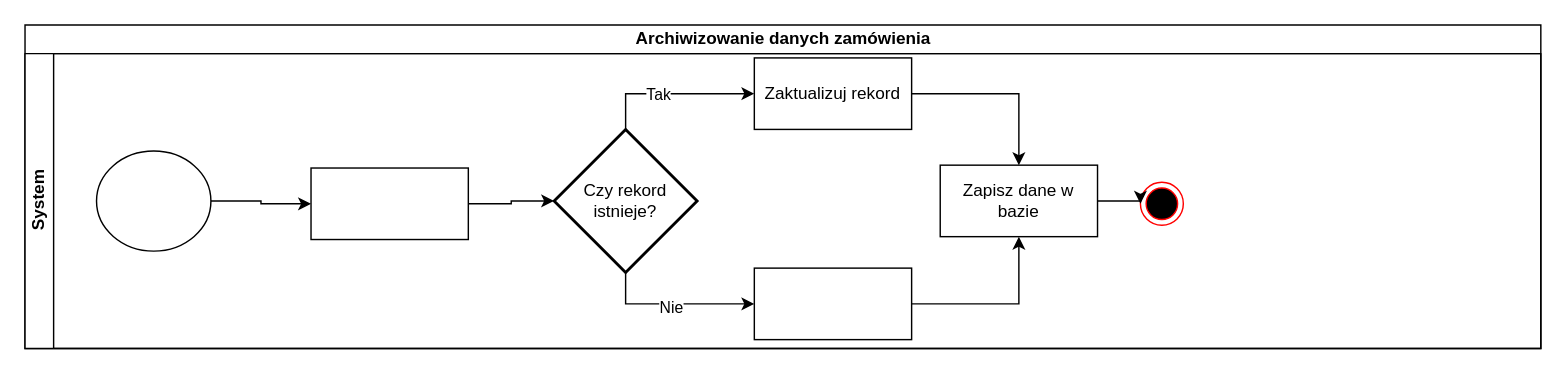
The diagram is 1566 pixels wide and 375 high, and some of its shapes have lost their labels. Here are the shapes that lost their labels. From the top down, the box of each, then its label:
(95, 150, 211, 251): Start
(310, 167, 468, 240): Odbierz informacje o zamówieniu
(753, 267, 912, 340): Utwórz rekord
